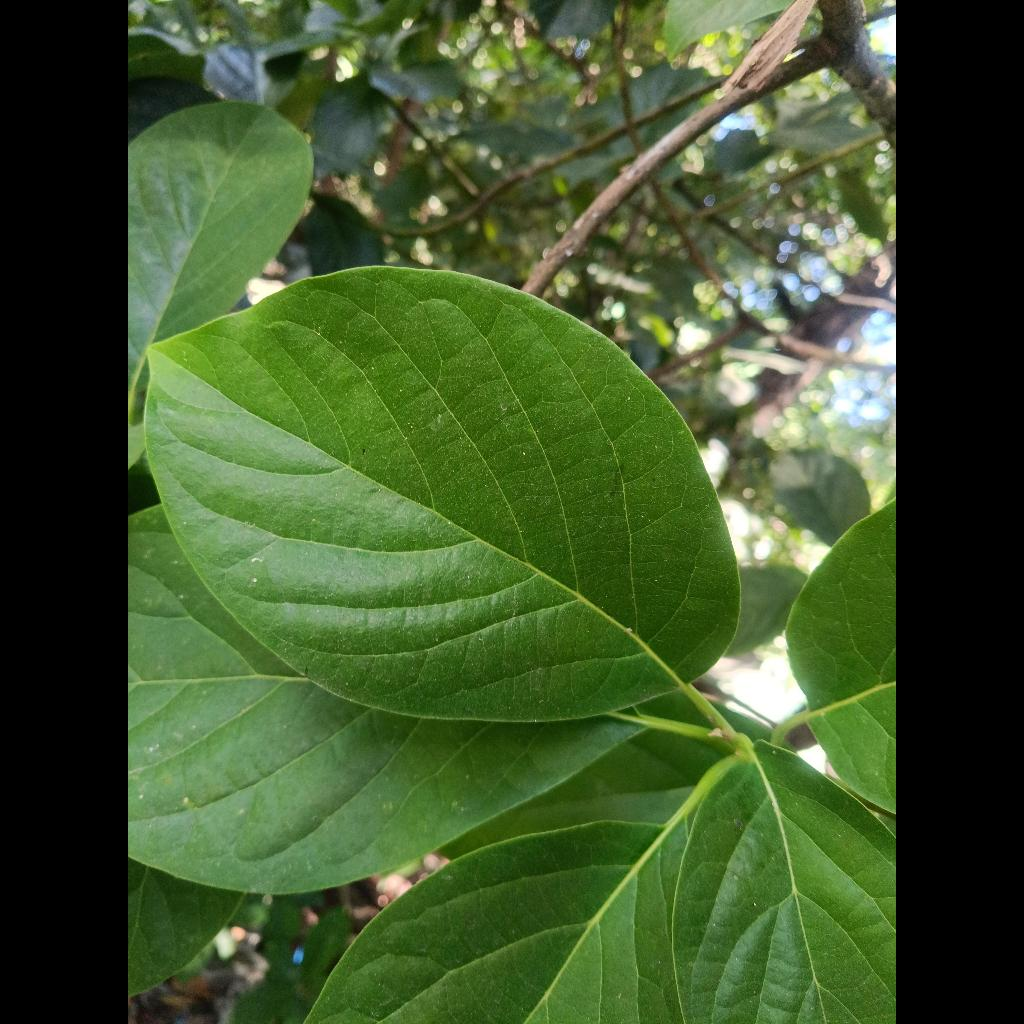Healthy: (147, 267, 739, 721)
